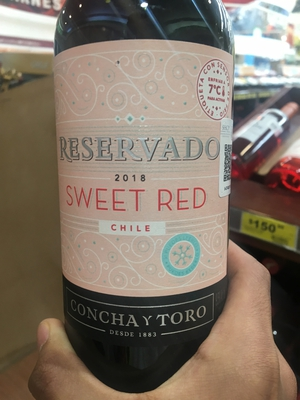reservado sweet red: (53, 5, 251, 396)
